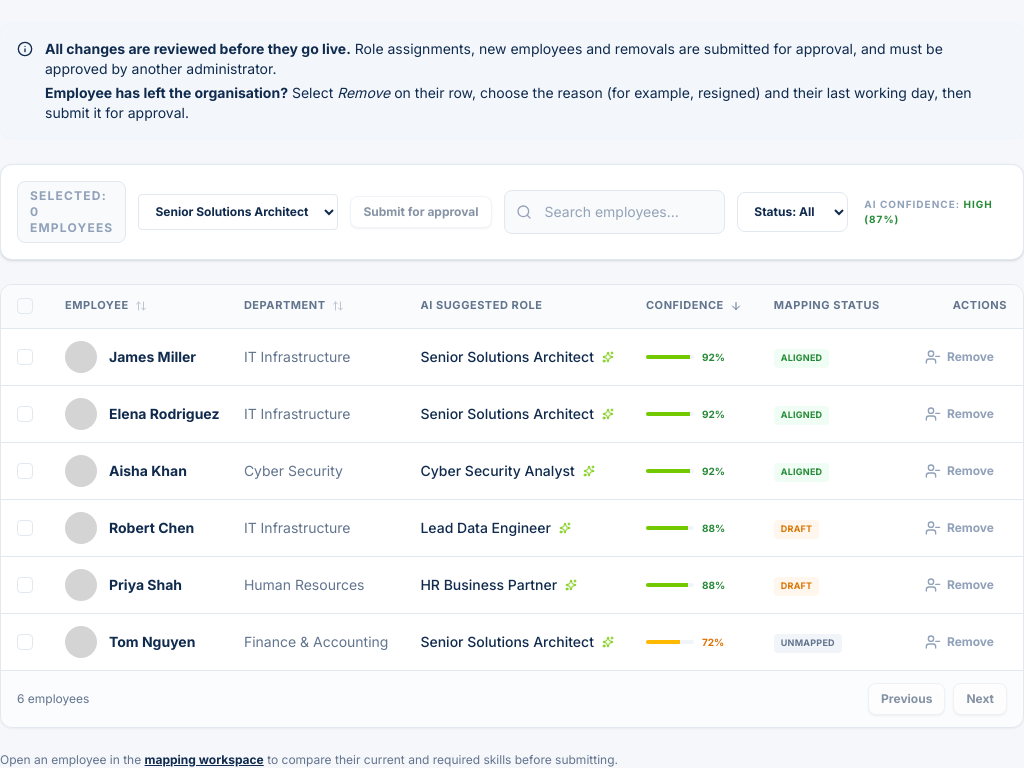
Bulk Mapping: changes need a second administrator › a removal waits for approval, the submitter cannot approve, another admin can
The image size is (1024, 768).
Later steps or results of the test are not shown.
(page scrolled)
Click the button with aria-label "Remove Tom Nguyen from the organisation".
click(959, 642)  # box [912,626,1007,658]
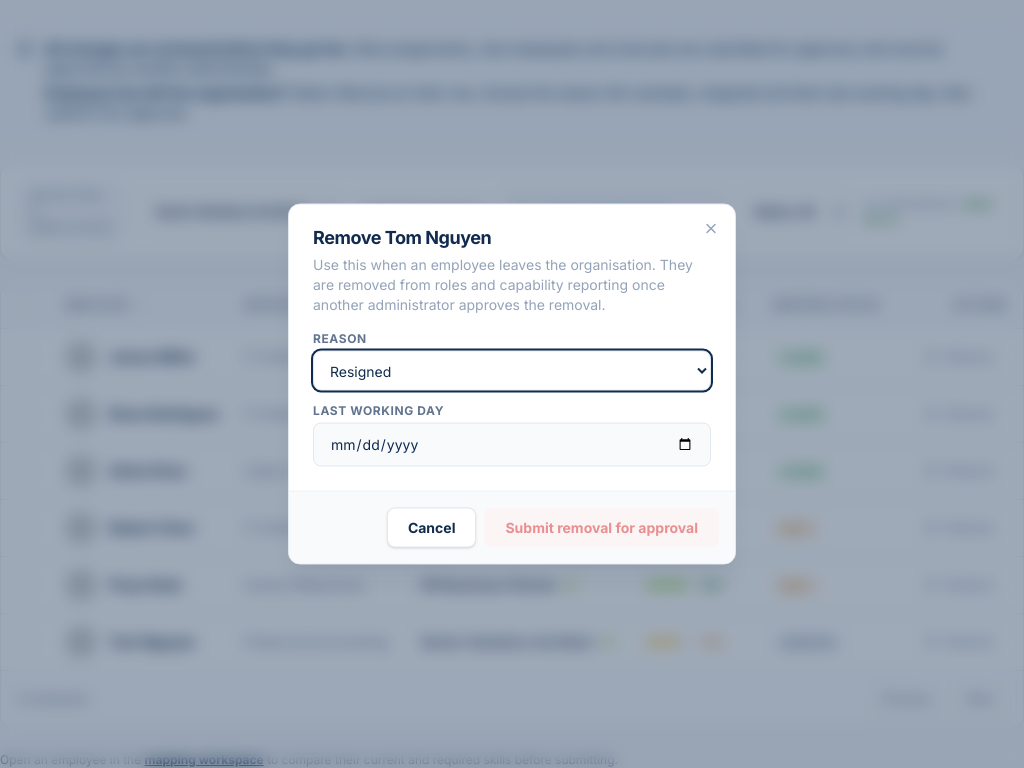
Select "Resigned" in the dropdown labelled "Reason" at (512, 370), box [313,350,711,390]
Type "2026-12-31" into the date field labelled "Last working day".
click(512, 444); type("2026-12-31")  # box [313,422,711,466]
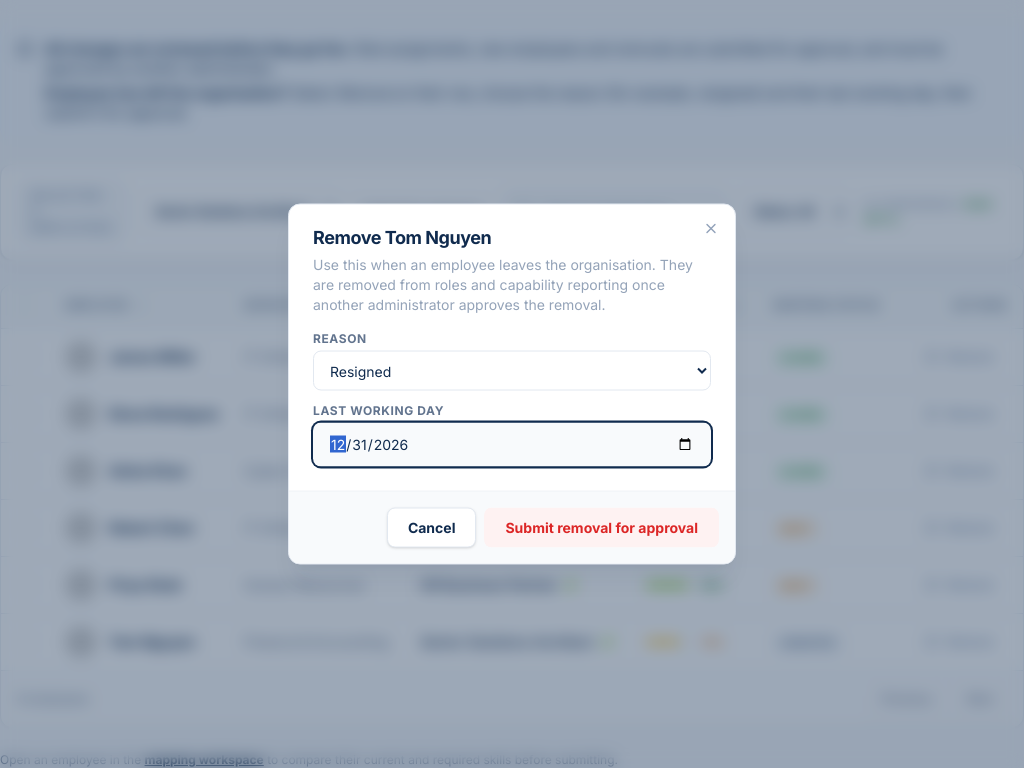
Click the button "Submit removal for approval".
click(602, 528)  # box [484,508,719,548]
(page scrolled)
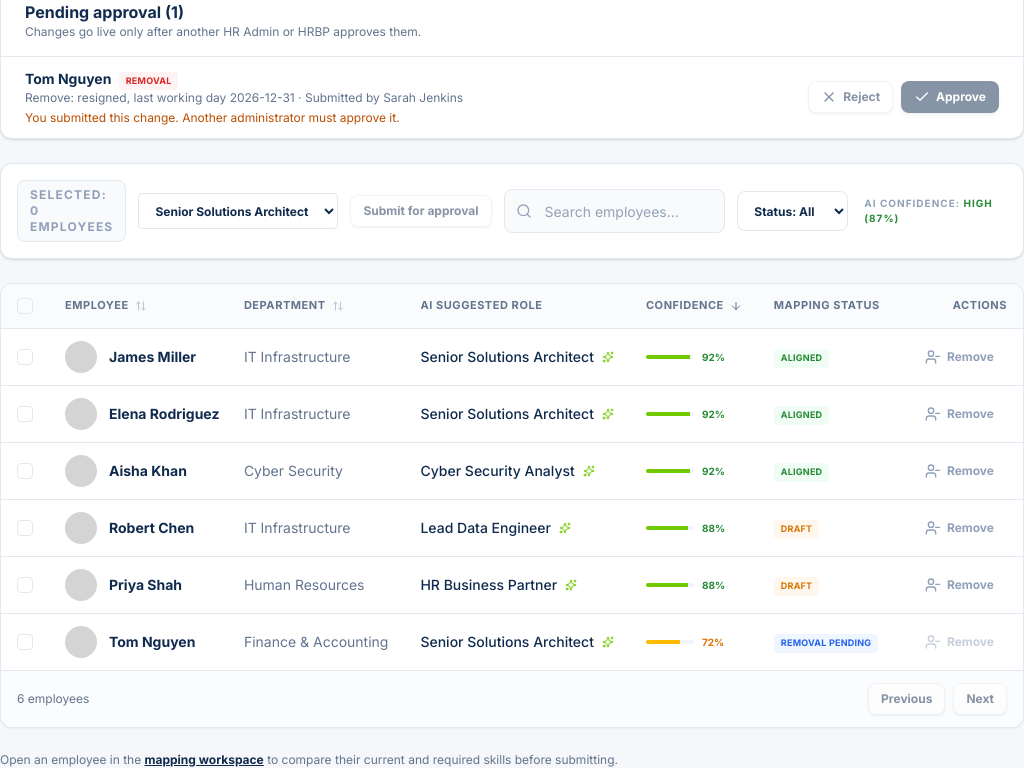
Expected: the text "Tom Nguyen" is shown, [109,632,195,652]
Expected: the text "You submitted this change" is shown, [25,110,400,125]
Expected: the button with aria-label "Approve removal" is disabled, [901,81,999,113]
